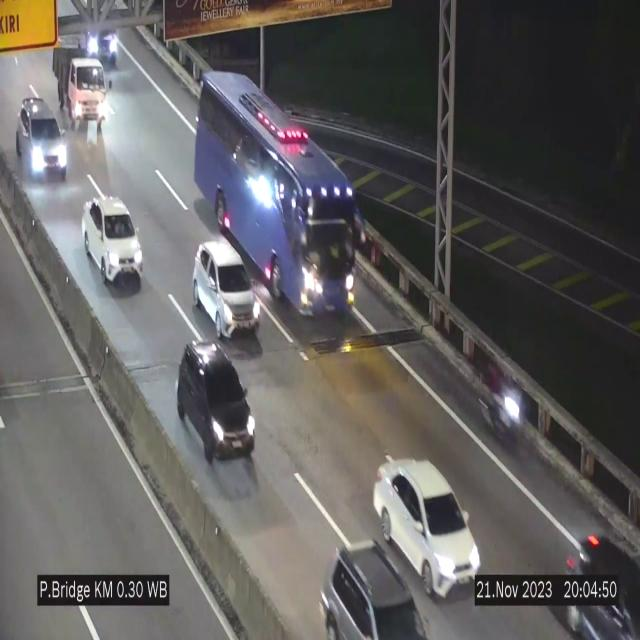Bus: (197, 70, 355, 318)
Car: (374, 458, 481, 597), (316, 521, 430, 640), (561, 505, 640, 640), (192, 239, 260, 341), (82, 197, 143, 285), (13, 92, 69, 182), (78, 0, 122, 71)
Motorcycle: (175, 339, 257, 466), (480, 362, 524, 445)
Truck: (52, 42, 108, 132)
